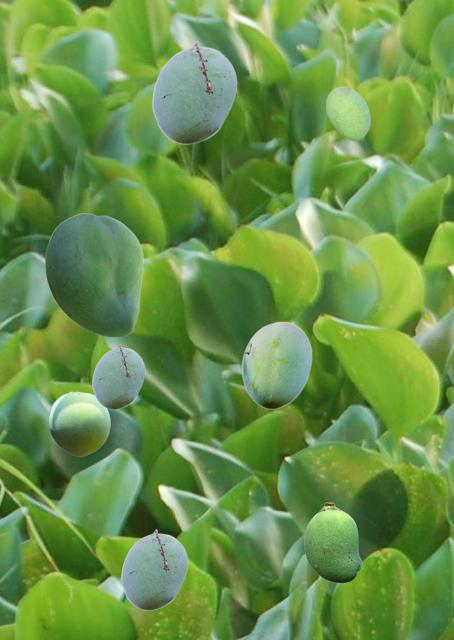green_mango: (45, 213, 142, 336), (152, 41, 236, 143), (241, 321, 311, 408), (121, 529, 187, 609), (304, 502, 361, 582), (48, 391, 109, 455), (92, 344, 144, 408), (326, 86, 369, 139)
